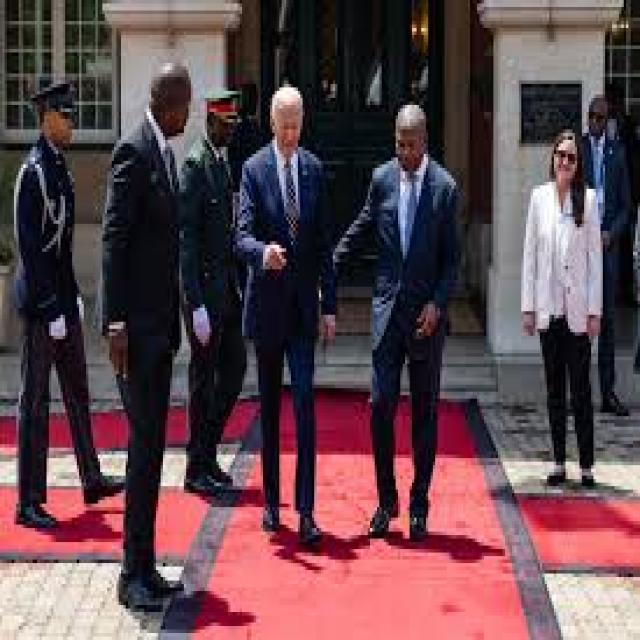stand: (89, 52, 192, 630), (349, 83, 463, 546), (237, 93, 335, 552), (20, 77, 104, 574), (174, 71, 244, 508), (528, 118, 600, 501), (572, 98, 630, 428)
